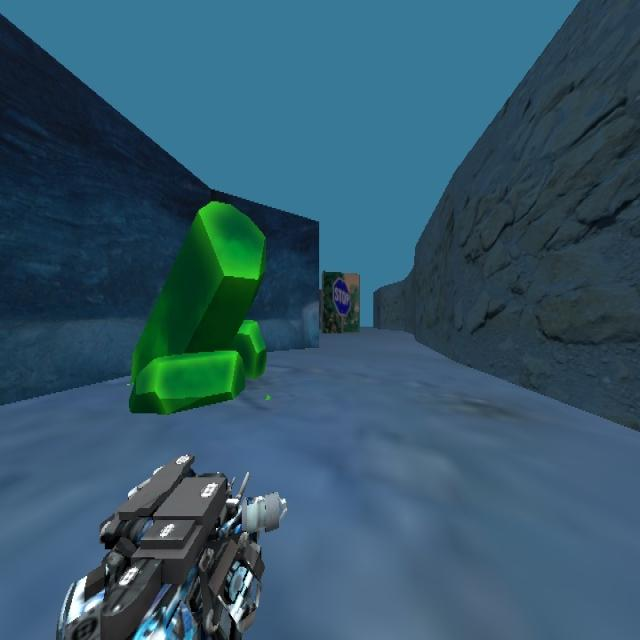Diamon: (127, 198, 268, 414)
Stop_Sign: (322, 270, 360, 334), (332, 276, 351, 316)
